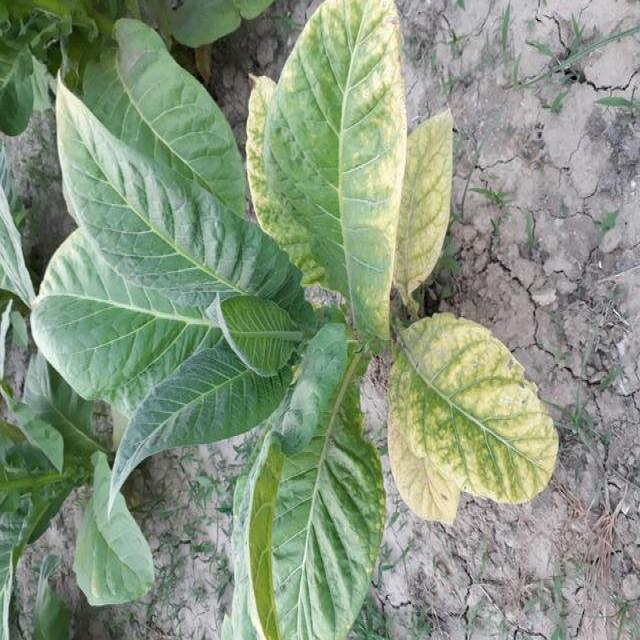crop: (41, 0, 561, 636)
